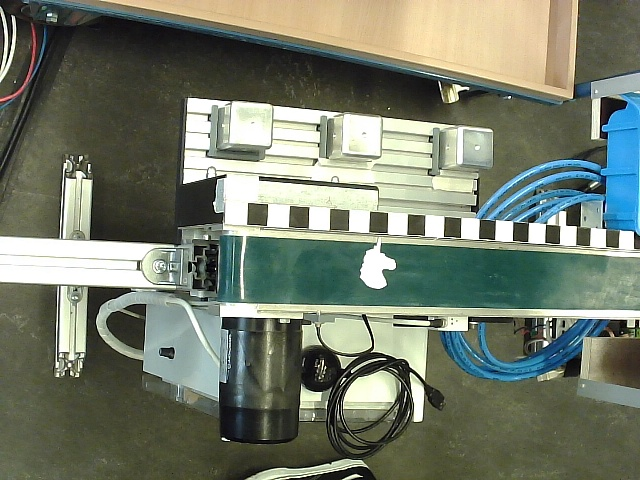unicorn: (359, 236, 397, 290)
